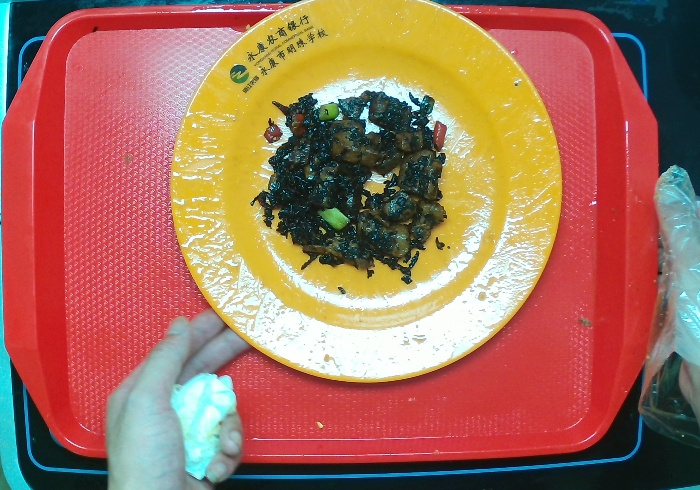YKMZ-Ju_Se_Mian_Pan: (166, 1, 564, 383)
